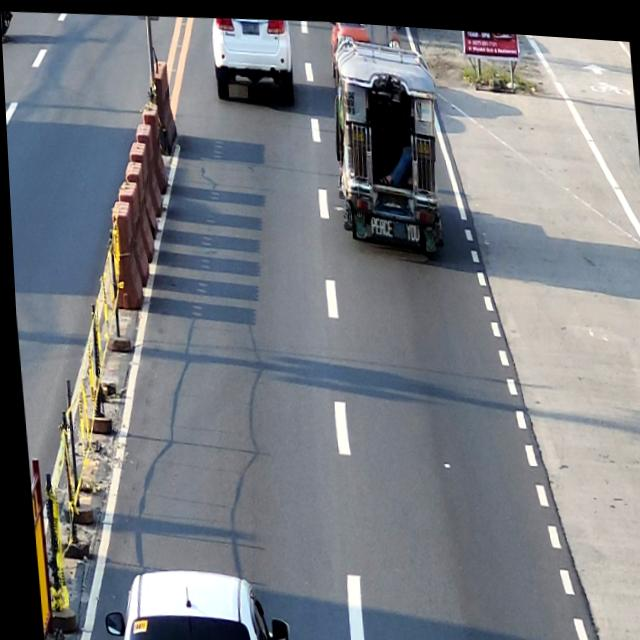Car: (93, 558, 283, 640), (210, 12, 295, 100)
Jeep: (325, 32, 447, 253)
License-Plate: (241, 17, 259, 32)
